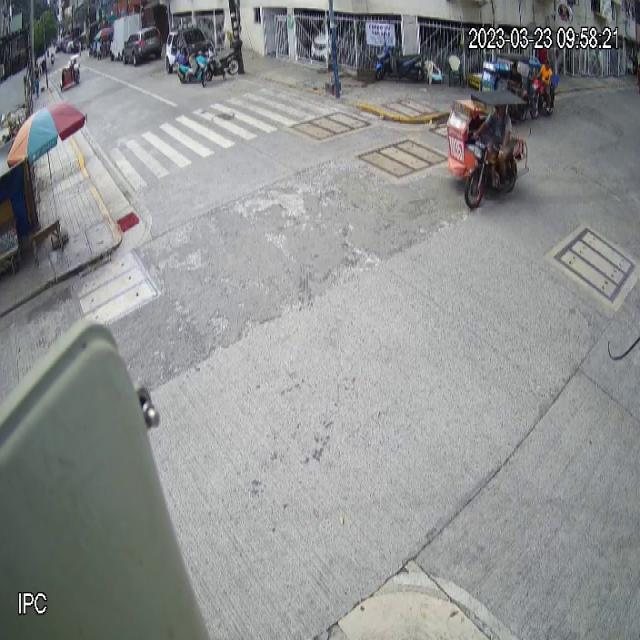Tricycle: (446, 89, 530, 208)
